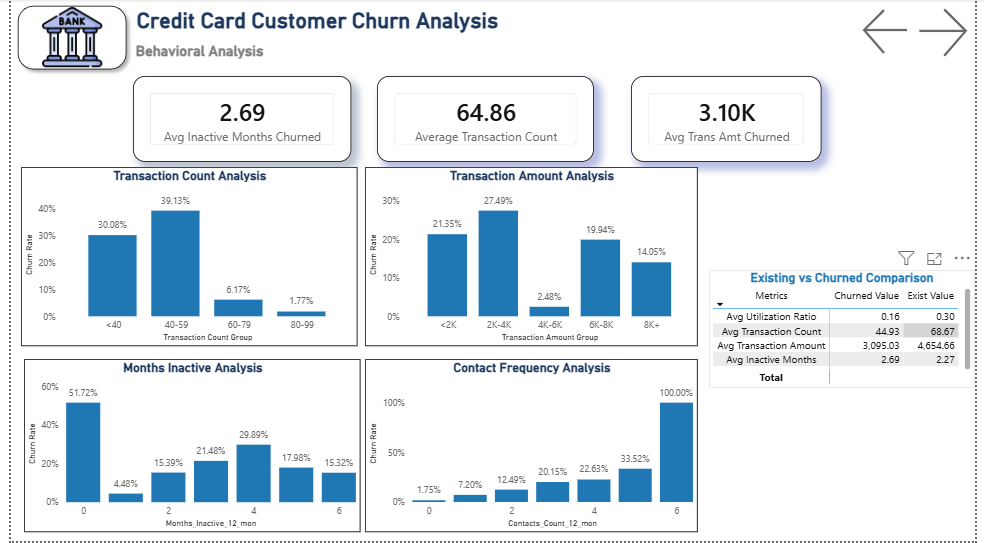

Layout of this report page (visuals, bound fields, positions):
{"tool":"powerbi","page":{"name":"Behavioural Analysis","canvas":[1280,720],"ordinal":8},"visuals":[{"type":"shape","box":[0,0,162.3,102.5],"z":0},{"type":"image","box":[17.1,10.3,128.2,80.3],"z":1000},{"type":"textbox","title":"Credit Card Customer Churn Analysis","box":[161.7,11.7,690,40],"z":2000},{"type":"textbox","title":"Behavioral Analysis","box":[161,57.1,262,23.4],"z":3000},{"type":"cardVisual","title":"Avg Inactive Months (Churned)","fields":{"Data":["BankChurners.Avg Inactive Months Churned"]},"box":[162.4,102.4,289.8,114.1],"z":4000},{"type":"cardVisual","fields":{"Data":["BankChurners.Average Transaction Count"]},"box":[485.9,102.4,288.3,114.1],"z":5000},{"type":"cardVisual","fields":{"Data":["BankChurners.Avg Trans Amt Churned"]},"box":[823.9,102.4,253.2,114.1],"z":6000},{"type":"clusteredColumnChart","title":"Months Inactive Analysis","fields":{"Category":["BankChurners.Months_Inactive_12_mon"],"Y":["BankChurners.Churn Rate"]},"box":[16.7,478.7,446.9,230.2],"z":7000},{"type":"clusteredColumnChart","title":"Contact Frequency Analysis","fields":{"Category":["BankChurners.Contacts_Count_12_mon"],"Y":["BankChurners.Churn Rate"]},"box":[470,478.3,441.7,230],"z":8000},{"type":"clusteredColumnChart","title":"Transaction Count Analysis","fields":{"Category":["BankChurners.Transaction Count Group"],"Y":["BankChurners.Churn Rate"]},"box":[13.3,223.3,446.7,238.3],"z":9000},{"type":"clusteredColumnChart","title":"Transaction Amount Analysis","fields":{"Category":["BankChurners.Transaction Amount Group"],"Y":["BankChurners.Churn Rate"]},"box":[470,223.3,441.7,238.3],"z":10000},{"type":"actionButton","box":[1125,7.1,92.9,73.2],"z":11000},{"type":"actionButton","box":[1198.2,5.4,82.1,78.6],"z":12000},{"type":"pivotTable","title":"Existing vs Churned Comparison","fields":{"Rows":["metrics.Metrics"],"Values":["metrics.Churned Value","metrics.Exist Value"]},"box":[926.7,360,353.3,156.7],"z":13000}]}

Visuals, with their boxes in screenshot pixels (x1, y1, x2, y2), scaled from the page's 1280x720 canvas onto the 984x543 screenshot:
shape: (left=0, top=0, right=125, bottom=77)
image: (left=13, top=8, right=112, bottom=68)
"Credit Card Customer Churn Analysis" textbox: (left=124, top=9, right=655, bottom=39)
"Behavioral Analysis" textbox: (left=124, top=43, right=325, bottom=61)
"Avg Inactive Months (Churned)" cardVisual: (left=125, top=77, right=348, bottom=163)
cardVisual - BankChurners.Average Transaction Count: (left=374, top=77, right=595, bottom=163)
cardVisual - BankChurners.Avg Trans Amt Churned: (left=633, top=77, right=828, bottom=163)
"Months Inactive Analysis" clusteredColumnChart: (left=13, top=361, right=356, bottom=535)
"Contact Frequency Analysis" clusteredColumnChart: (left=361, top=361, right=701, bottom=534)
"Transaction Count Analysis" clusteredColumnChart: (left=10, top=168, right=354, bottom=348)
"Transaction Amount Analysis" clusteredColumnChart: (left=361, top=168, right=701, bottom=348)
actionButton: (left=865, top=5, right=936, bottom=61)
actionButton: (left=921, top=4, right=983, bottom=63)
"Existing vs Churned Comparison" pivotTable: (left=712, top=272, right=983, bottom=390)
